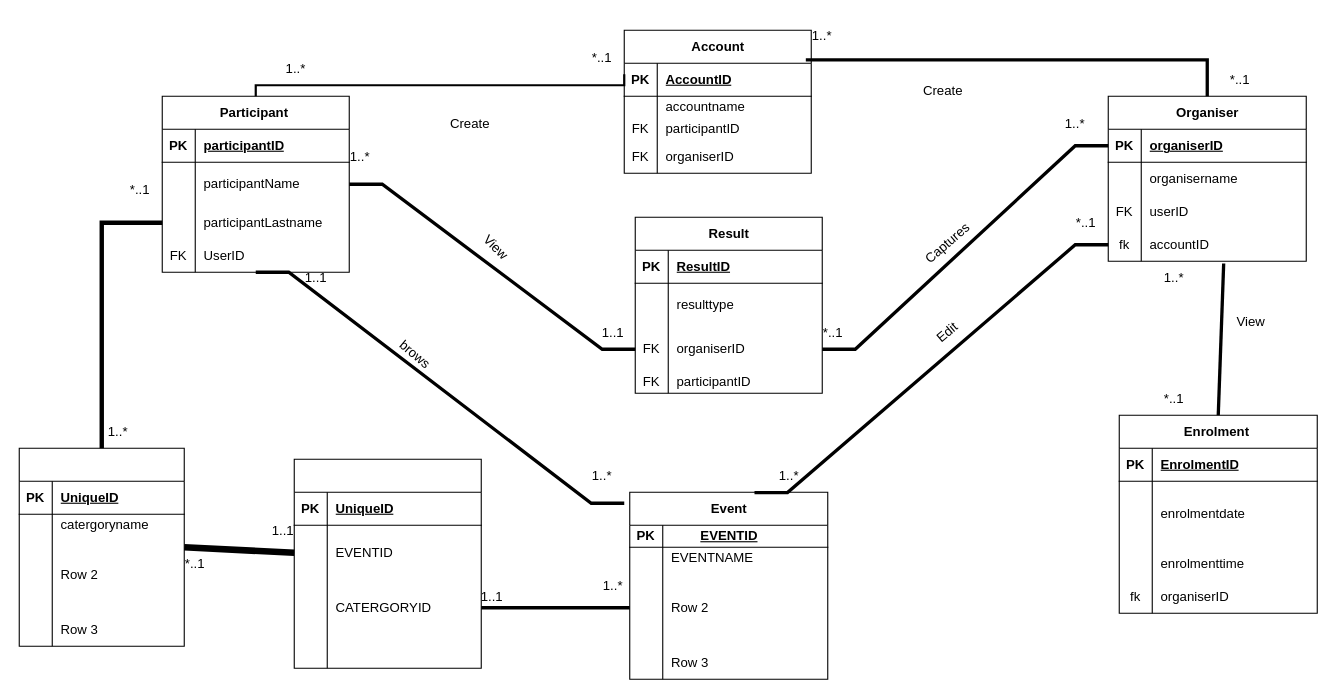
This 1337x699 diagram has some shape labels left out. Each missing label, with the box of its shape:
Category: (18, 447, 184, 646)
Event-Catergory: (293, 458, 481, 668)
